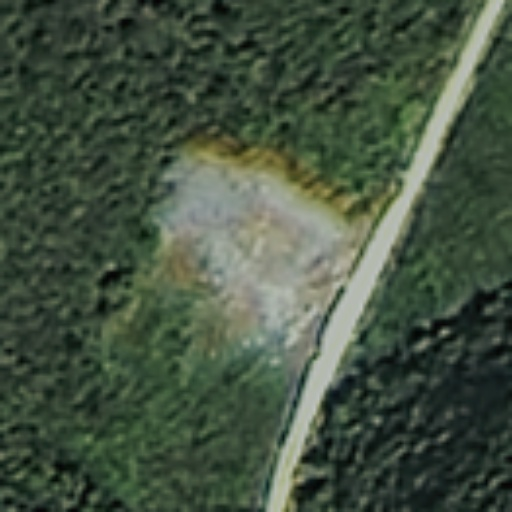landslide: (147, 132, 371, 345)
